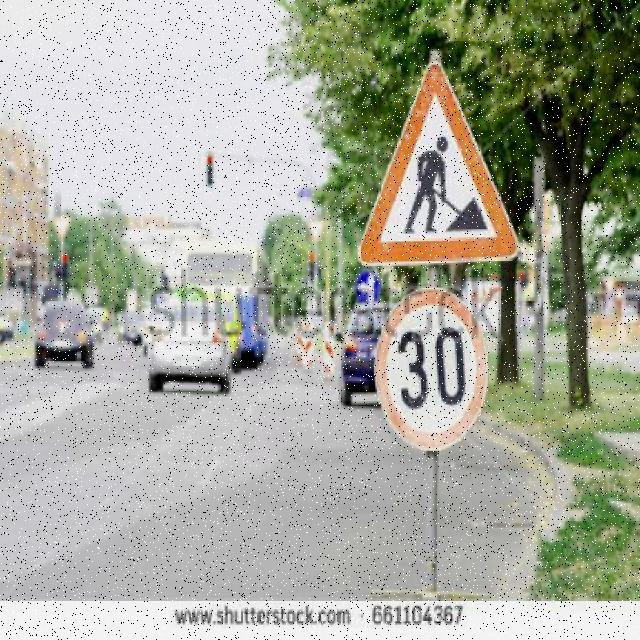Ograniczenie predkosci do 30: (377, 289, 486, 451)
